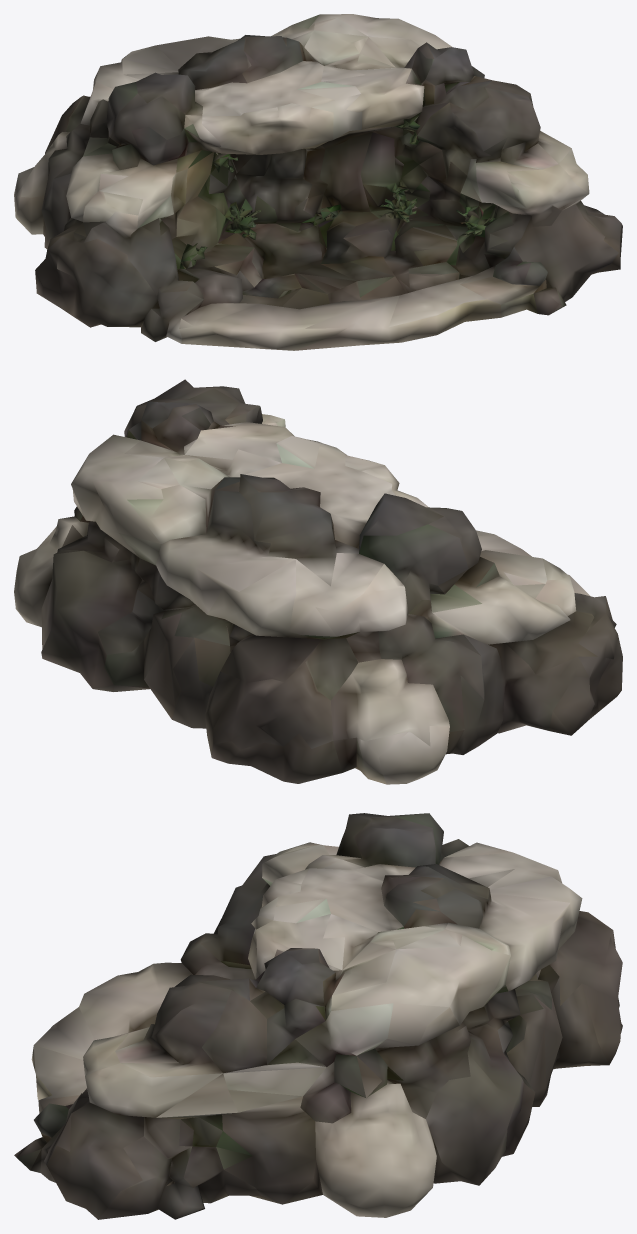
Rendered from grotto.glb.
3 views of the same model, one above another, from view 1: azimuth 30°, elevation 25°; view 2: azimuth 150°, elevation 25°; view 3: azimuth 270°, elevation 25° (orthographic). The views are drawn at different scales.
Visible parts, largest first — view 1: LO.001; view 2: LO.001; view 3: LO.001.
Boxes of the visible parts, x1=… form: LO.001: x1=14, y1=14, x2=622, y2=350; LO.001: x1=14, y1=379, x2=622, y2=784; LO.001: x1=14, y1=813, x2=622, y2=1219.
Size of the model in its own units: 9.02 by 3.2 by 8.22.
Materials: 1 (1 with a texture image).
